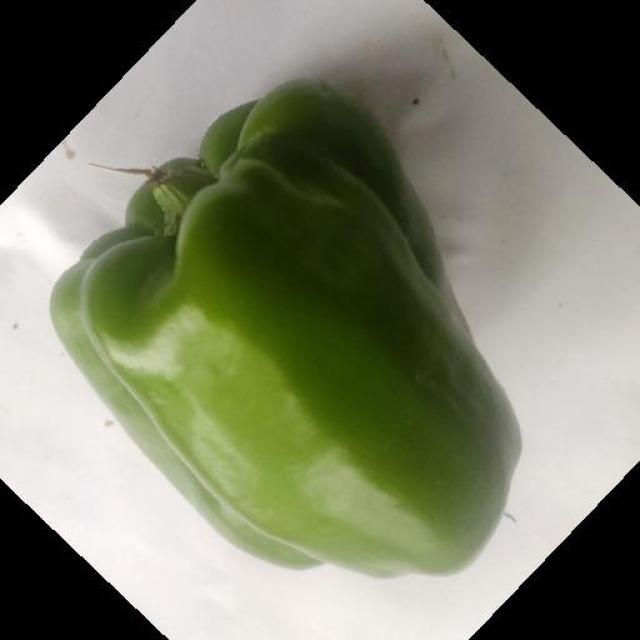Fresh_Capsicum: (111, 194, 495, 516)
